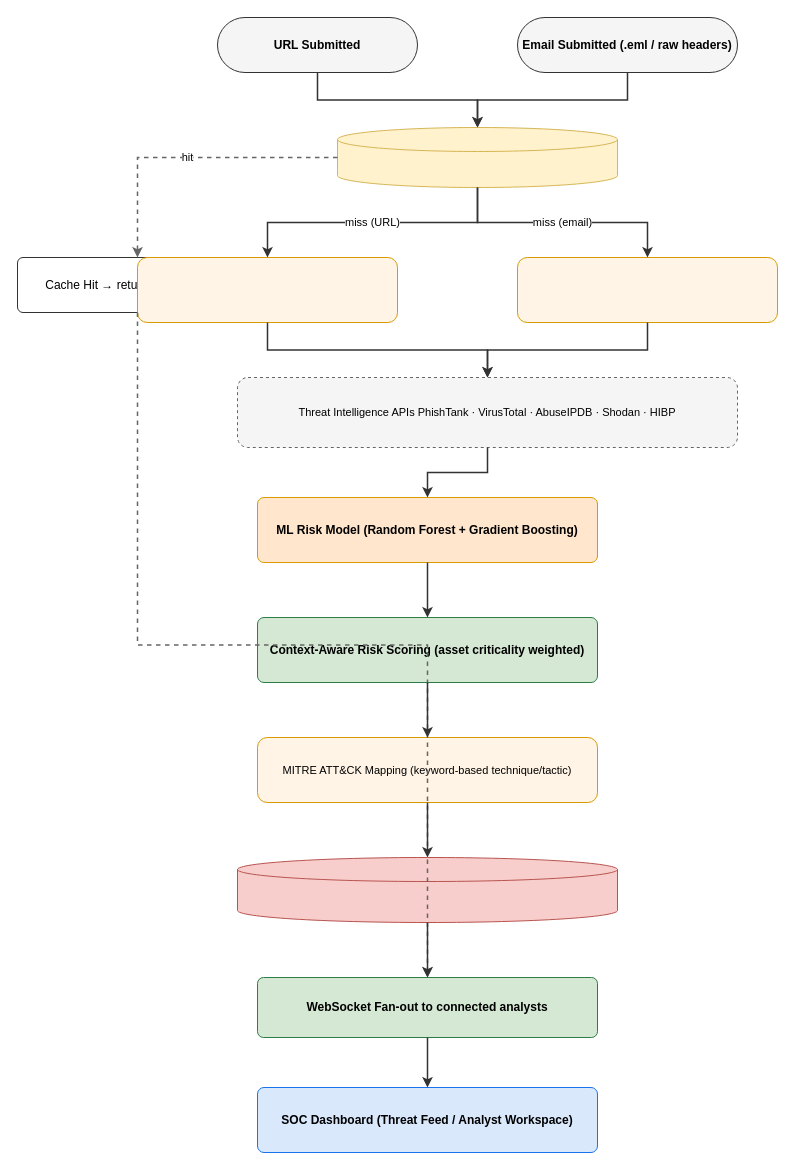
The diagram is 795 pixels wide and 1170 high, and some of its shapes have lost their labels. The shapes that lost their labels are listed below. From the top down, each one's box as (x1, y1, x2, y2) in pixels, then its label:
(336, 126, 618, 188): Redis Cache Lookup (seen this indicator before?)
(136, 256, 398, 322): URL Feature Extraction (lexical, domain age, redirects)
(516, 256, 778, 322): Header Parsing (SPF / DKIM / DMARC)
(236, 856, 618, 922): Persist Result (PostgreSQL + cache write-through to Redis)
